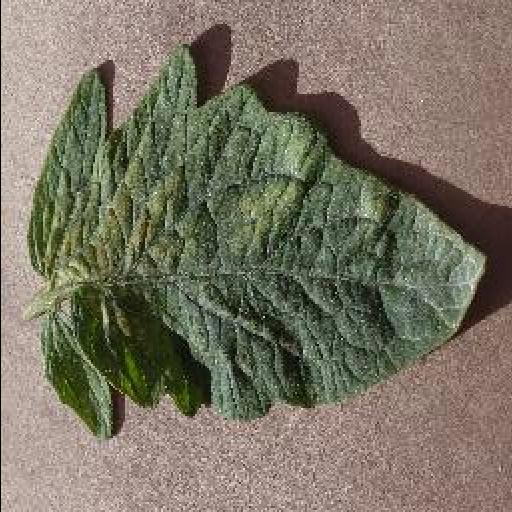disease_tomato: (28, 42, 490, 442)
